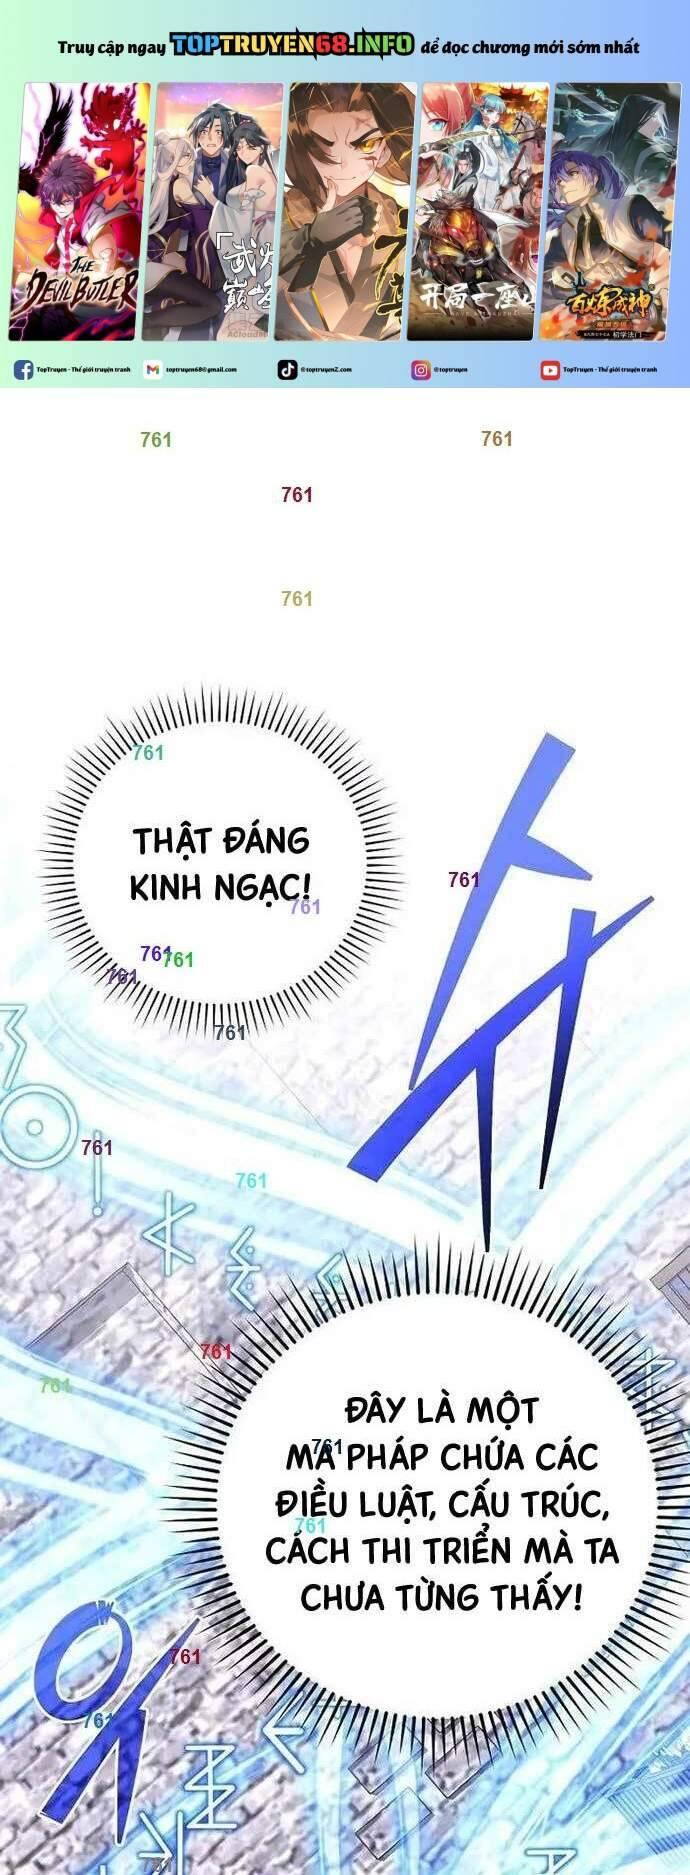quangcao: (0, 0, 690, 385)
